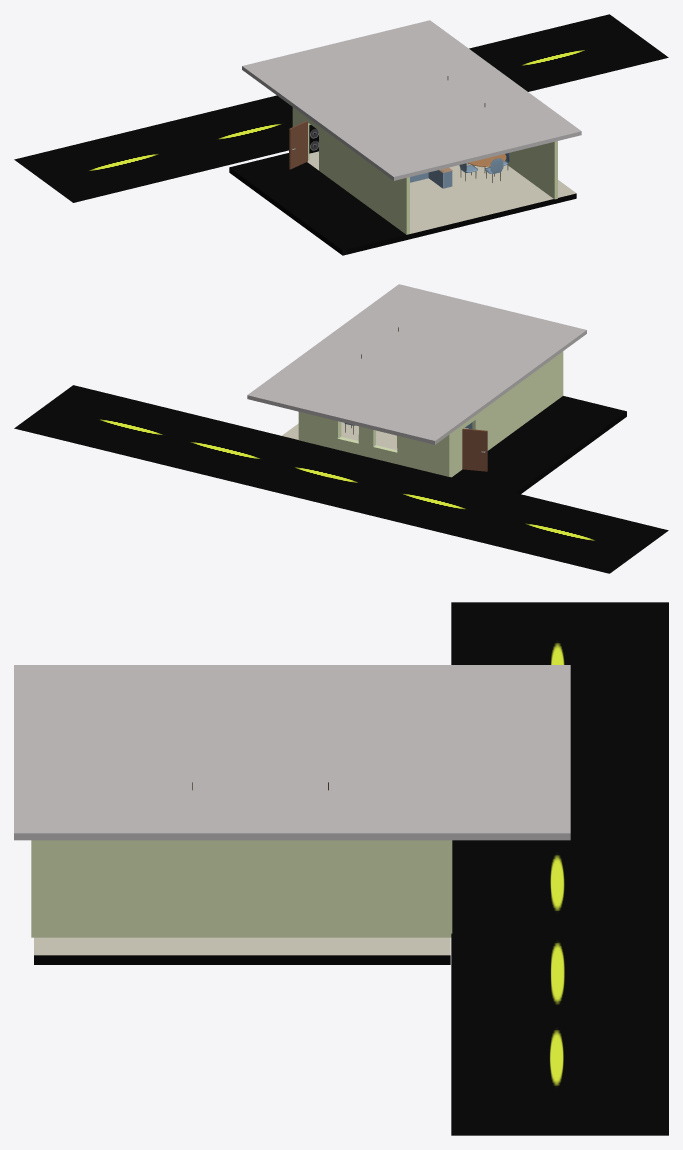
Rendered from Cenariotodinho.fbx.
3 views of the same model, one above another, from view 1: azimuth 30°, elevation 25°; view 2: azimuth 150°, elevation 25°; view 3: azimuth 270°, elevation 25° (orthographic). The views are drawn at different scales.
Parts seen in each view (by area): view 1: Teto, Rua, Cube.005, Cube.003, Cube.018, Balcao; view 2: Rua, Teto, Cube.003, Cube.005, Cube.018; view 3: Teto, Rua, Cube.003, Cube.005.
Part boxes in pixels (x1=…): Teto: x1=242, y1=20, x2=581, y2=180; Rua: x1=14, y1=14, x2=668, y2=202; Cube.005: x1=229, y1=151, x2=576, y2=255; Cube.003: x1=292, y1=107, x2=557, y2=234; Cube.018: x1=289, y1=121, x2=307, y2=169; Balcao: x1=410, y1=167, x2=452, y2=188; Rua: x1=14, y1=385, x2=668, y2=573; Teto: x1=247, y1=284, x2=586, y2=444; Cube.003: x1=298, y1=351, x2=563, y2=477; Cube.005: x1=282, y1=396, x2=626, y2=494; Cube.018: x1=462, y1=428, x2=487, y2=471; Teto: x1=14, y1=665, x2=570, y2=840; Rua: x1=451, y1=602, x2=668, y2=1135; Cube.003: x1=31, y1=840, x2=452, y2=937; Cube.005: x1=34, y1=937, x2=450, y2=964.
Bounding box in the file's own units: 2164 × 263 × 1124.
Materials: 22 (22 with a texture image).
